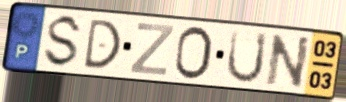D: (81, 17, 124, 70)
N: (264, 33, 313, 90)
O: (172, 24, 214, 82)
S: (40, 13, 85, 71)
U: (224, 28, 270, 85)
Z: (127, 21, 177, 78)
